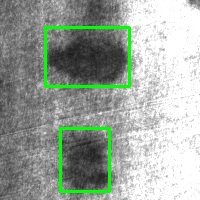patches: (45, 27, 129, 86), (60, 128, 109, 191)
